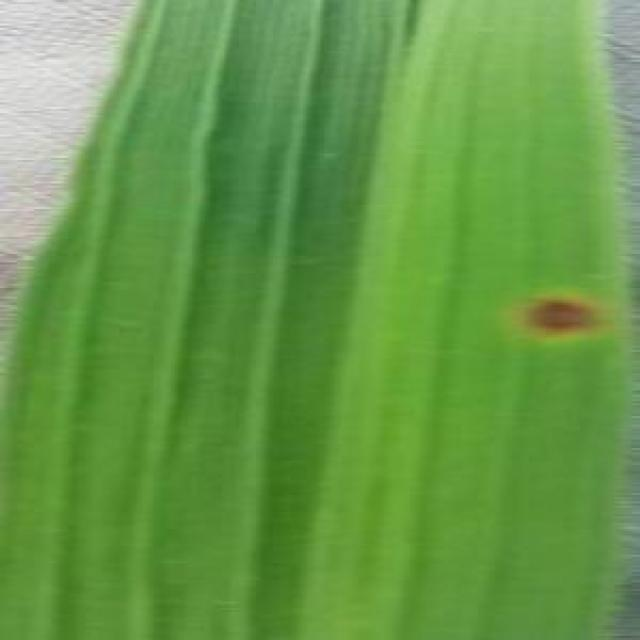brownspots: (514, 288, 600, 339)
